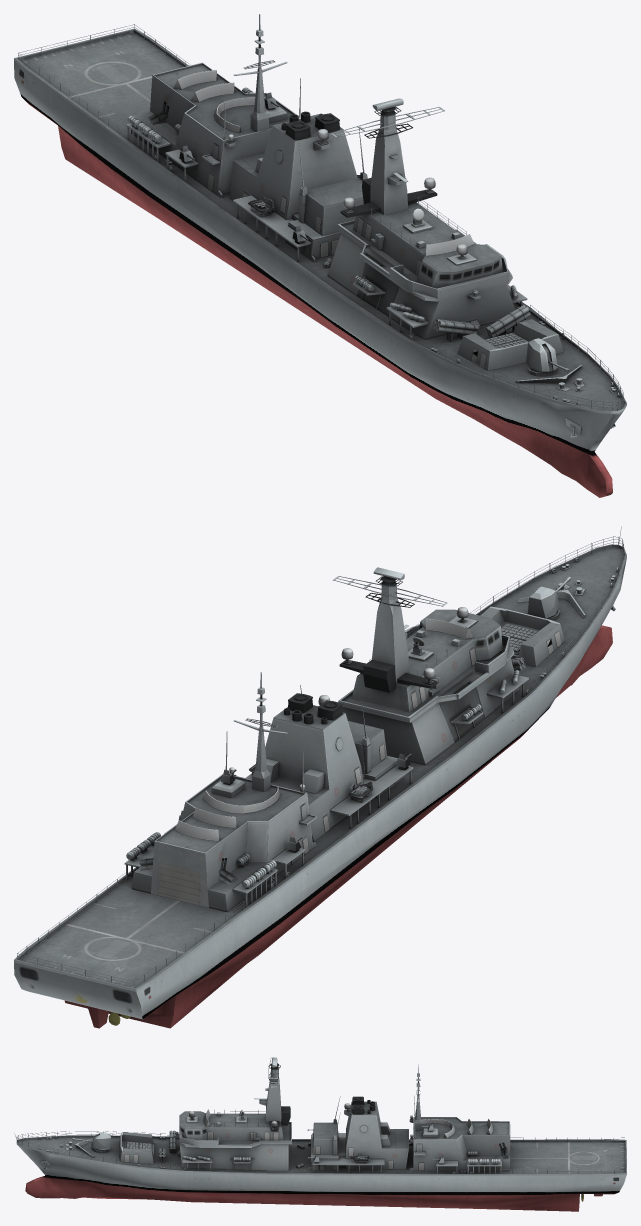
The model's file is frigate.glb.
The picture shows the model from 3 angles, top to bottom: view 1: azimuth 30°, elevation 25°; view 2: azimuth 150°, elevation 25°; view 3: azimuth 270°, elevation 25°; orthographic projection. The views are drawn at different scales.
Visible parts, largest first — view 1: Object_2; view 2: Object_2; view 3: Object_2.
Part boxes in pixels (left/top/right/bottom): Object_2: left=14, top=14, right=626, bottom=497; Object_2: left=14, top=526, right=626, bottom=1028; Object_2: left=14, top=1057, right=626, bottom=1211.
Bounding box in the file's own units: 0.5733 × 1.03 × 4.08.
Materials: 1 (1 with a texture image).
